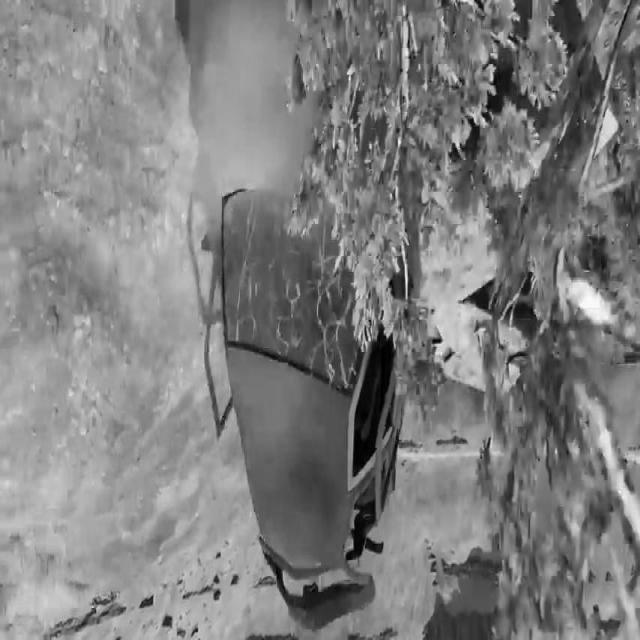severe: (169, 0, 434, 627)
